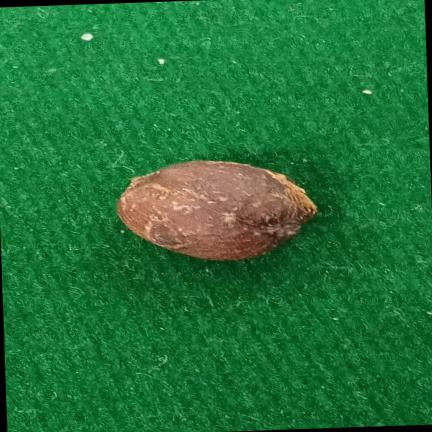husk: (117, 160, 317, 261)
